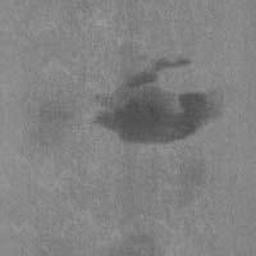Oil spot: (88, 54, 227, 146), (161, 154, 206, 210), (36, 97, 78, 147)
